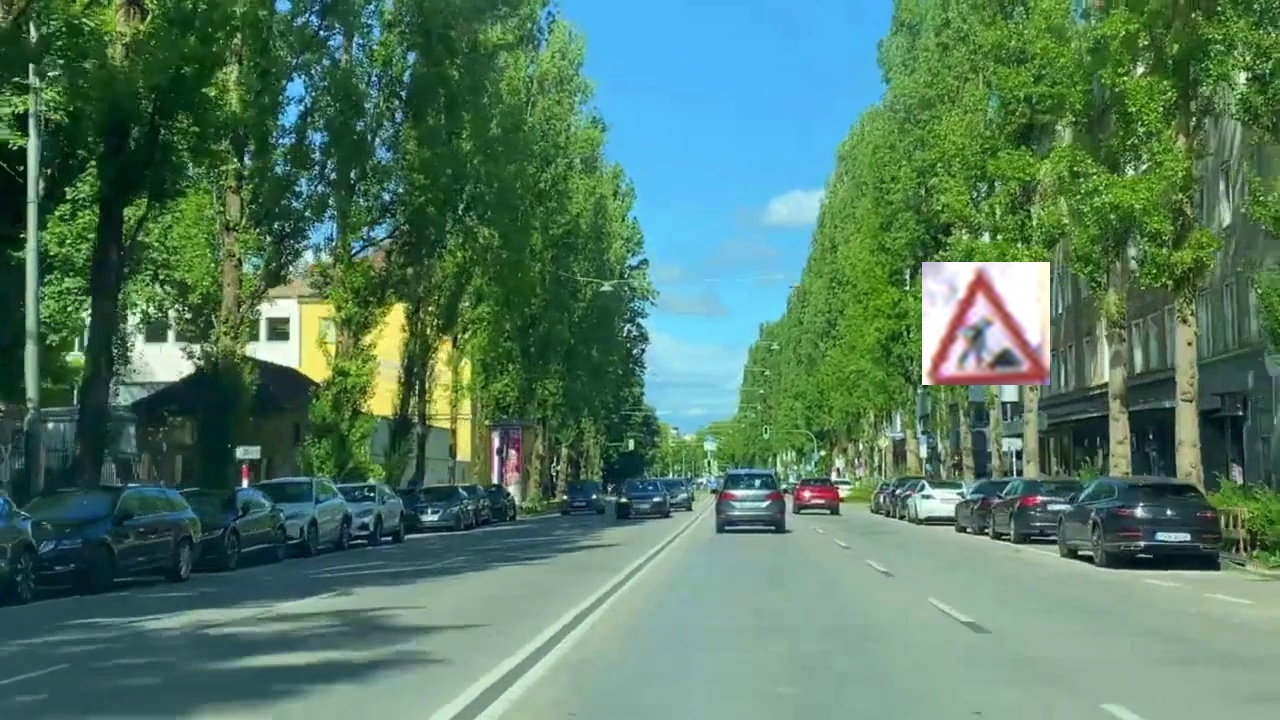Road work: (922, 262, 1050, 385)
